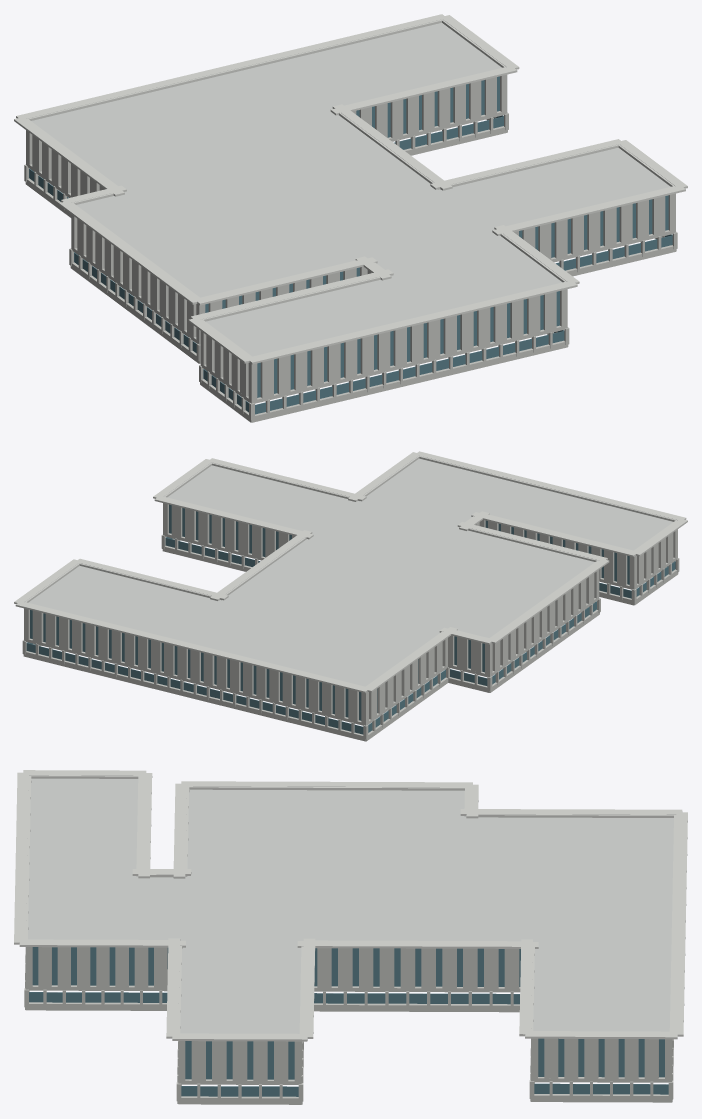
File: gongpei.far.glb
3 views of the same model, one above another, from view 1: azimuth 30°, elevation 25°; view 2: azimuth 150°, elevation 25°; view 3: azimuth 270°, elevation 25° (orthographic). The views are drawn at different scales.
Parts seen in each view (by area): view 1: roof, wall, trim, glass; view 2: roof, wall, trim, glass; view 3: roof, wall, trim, glass.
Part boxes in pixels (x1=…): roof: x1=31, y1=23, x2=670, y2=356; wall: x1=24, y1=74, x2=677, y2=422; trim: x1=14, y1=14, x2=687, y2=364; glass: x1=29, y1=76, x2=672, y2=414; roof: x1=28, y1=458, x2=672, y2=686; wall: x1=22, y1=503, x2=679, y2=741; trim: x1=14, y1=451, x2=687, y2=693; glass: x1=26, y1=504, x2=675, y2=734; roof: x1=28, y1=778, x2=673, y2=1033; wall: x1=24, y1=947, x2=673, y2=1104; trim: x1=14, y1=770, x2=687, y2=1041; glass: x1=29, y1=947, x2=668, y2=1096.
Size of the model in its own units: 98.03 by 11.87 by 104.
